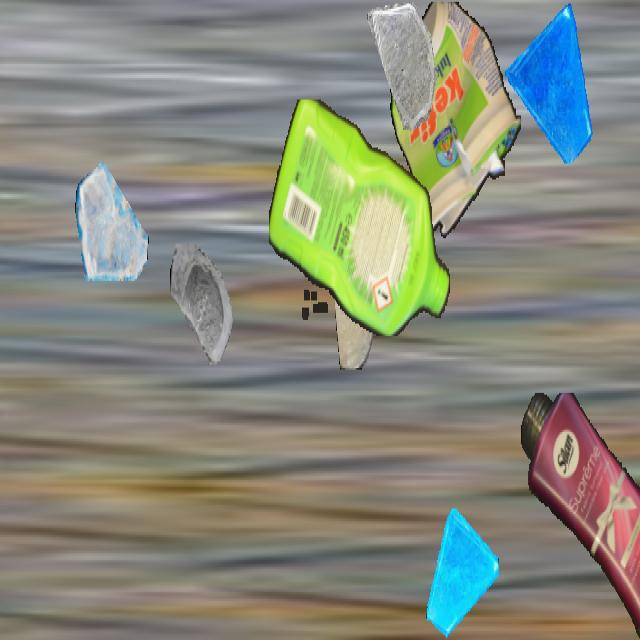glass: (505, 2, 595, 162), (169, 244, 245, 378), (75, 156, 149, 288), (424, 507, 498, 638), (367, 2, 439, 130)
plastic: (269, 100, 451, 334), (389, 2, 521, 247), (520, 393, 640, 638)
wood: (335, 238, 373, 370)
